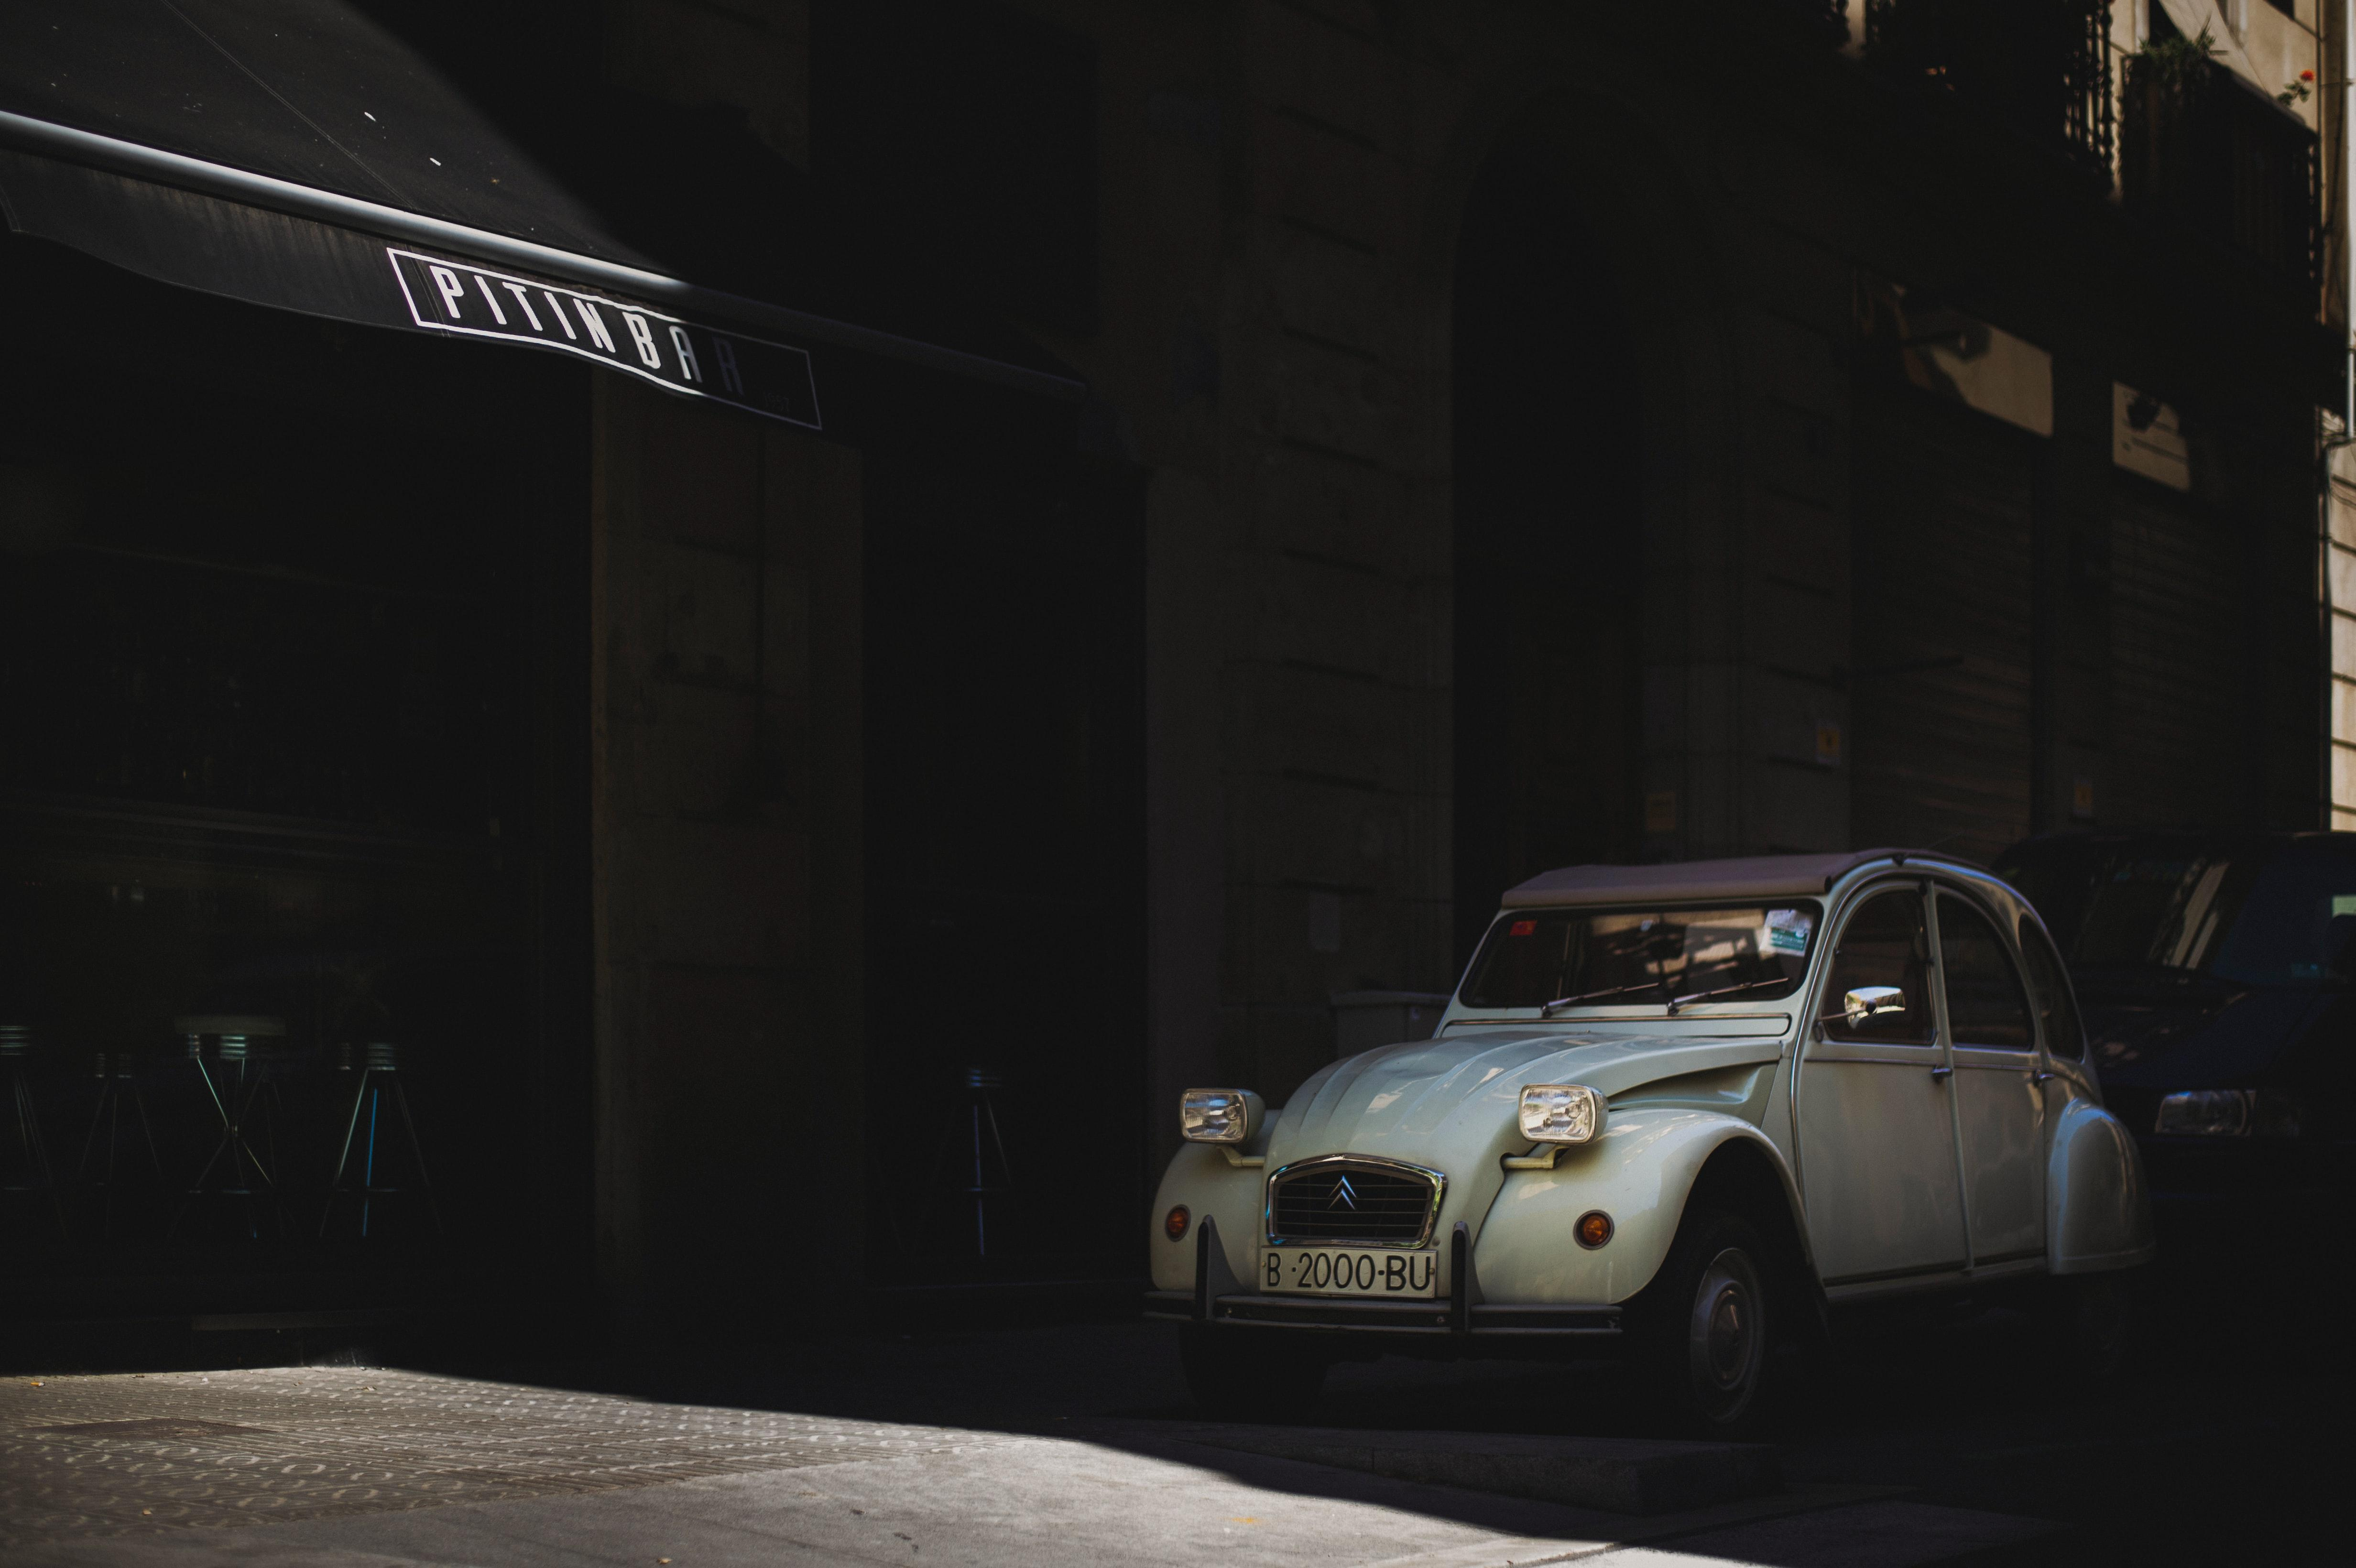Citroen: (1306, 1158, 1383, 1228)
